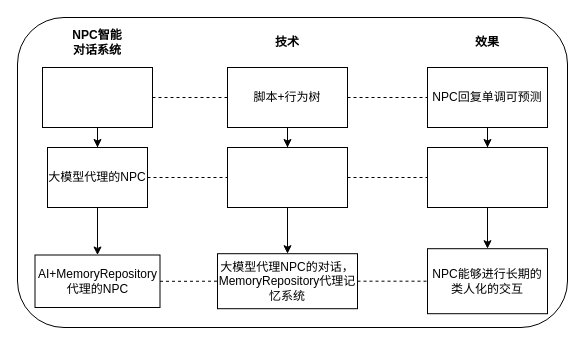
Image size: 585x345. Some labels were removed from this diagram. The centre of each missing label's shape, as x and y in pixels:
传统NPC: (x=97, y=97)
大模型代理NPC: (x=287, y=177)
解决了NPC回复单调可预测的问题，但是无法进行长期交互，类人化表现不够: (x=487, y=177)
